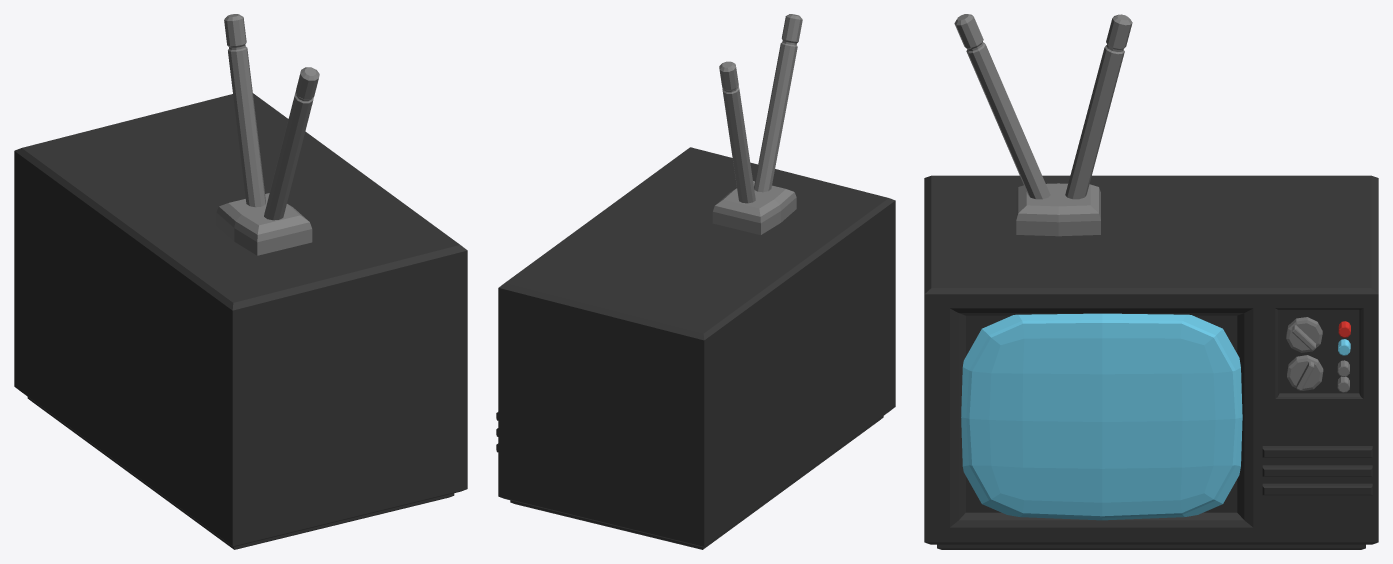
The model's file is oldTV.gltf.
3 views of the same model, side by side, from view 1: azimuth 30°, elevation 25°; view 2: azimuth 150°, elevation 25°; view 3: azimuth 270°, elevation 25° (orthographic). The views are drawn at different scales.
Parts seen in each view (by area): view 1: Cube.002, Cylinder.001, Cube.001, Cylinder.002; view 2: Cube.002, Cylinder.002, Cube.001, Cylinder.001; view 3: Cube.002, Cube, Cylinder.002, Cylinder.001, Cube.001, Cube.005, Cube.003, Cube.004, Cylinder, Cylinder.003.
Part boxes in pixels (left/top/right/bottom): Cube.002: left=14, top=93, right=467, bottom=549; Cylinder.001: left=224, top=14, right=265, bottom=207; Cube.001: left=216, top=193, right=312, bottom=255; Cylinder.002: left=264, top=67, right=319, bottom=220; Cube.002: left=498, top=147, right=895, bottom=549; Cylinder.002: left=754, top=14, right=802, bottom=192; Cube.001: left=712, top=181, right=796, bottom=234; Cylinder.001: left=719, top=61, right=755, bottom=203; Cube.002: left=924, top=175, right=1378, bottom=549; Cube: left=961, top=313, right=1242, bottom=520; Cylinder.002: left=954, top=14, right=1050, bottom=199; Cylinder.001: left=1065, top=14, right=1132, bottom=199; Cube.001: left=1016, top=183, right=1100, bottom=236; Cube.005: left=1262, top=483, right=1372, bottom=495; Cube.003: left=1262, top=446, right=1372, bottom=457; Cube.004: left=1262, top=465, right=1372, bottom=476; Cylinder: left=1286, top=317, right=1322, bottom=352; Cylinder.003: left=1287, top=355, right=1323, bottom=390.
Bounding box in the file's own units: 0.4659 × 0.8227 × 0.721.
